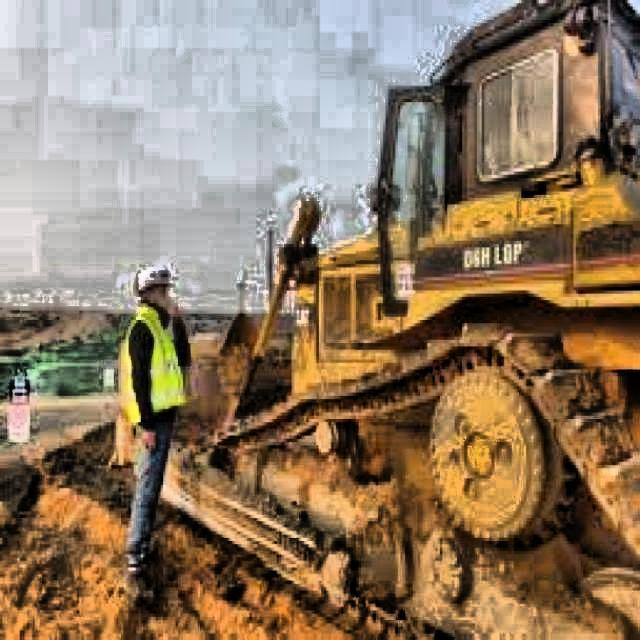bull_dozer/loader/grader: (131, 0, 640, 638)
person: (124, 263, 188, 605)
